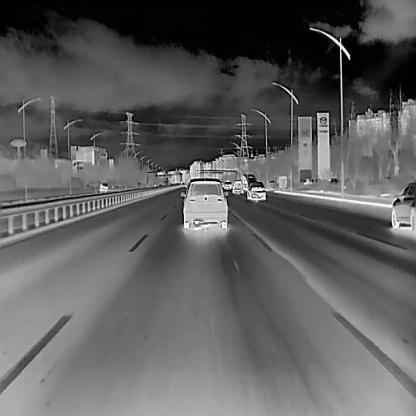car: (180, 177, 229, 228), (389, 181, 415, 230), (246, 180, 266, 201), (241, 172, 257, 189), (231, 180, 244, 194), (303, 175, 319, 185), (98, 181, 108, 191), (224, 180, 232, 190)
